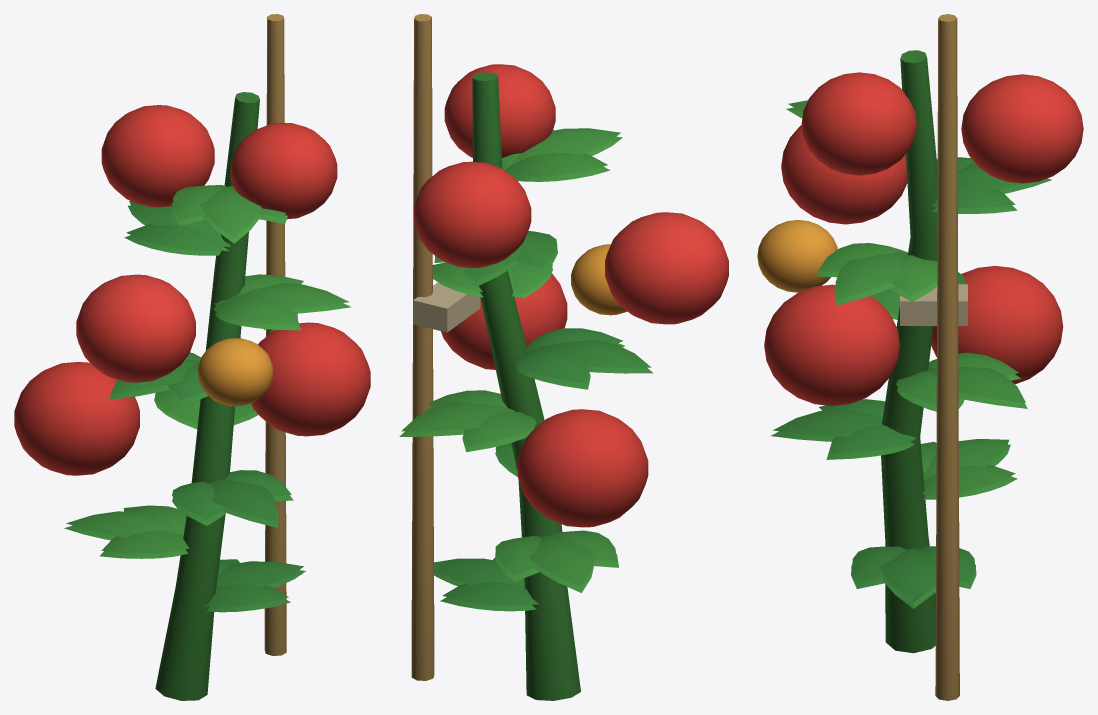
File: tomato-3.glb
The picture shows the model from 3 angles, left to right: view 1: azimuth 30°, elevation 25°; view 2: azimuth 150°, elevation 25°; view 3: azimuth 270°, elevation 25°; orthographic projection. The views are drawn at different scales.
Visible parts, largest first — view 1: tomato-3; view 2: tomato-3; view 3: tomato-3.
Part boxes in pixels (bbox=[...]): tomato-3: bbox=[14, 14, 370, 700]; tomato-3: bbox=[399, 14, 728, 700]; tomato-3: bbox=[757, 14, 1083, 700].
Bounding box in the file's own units: 0.492 × 1.11 × 0.48.
